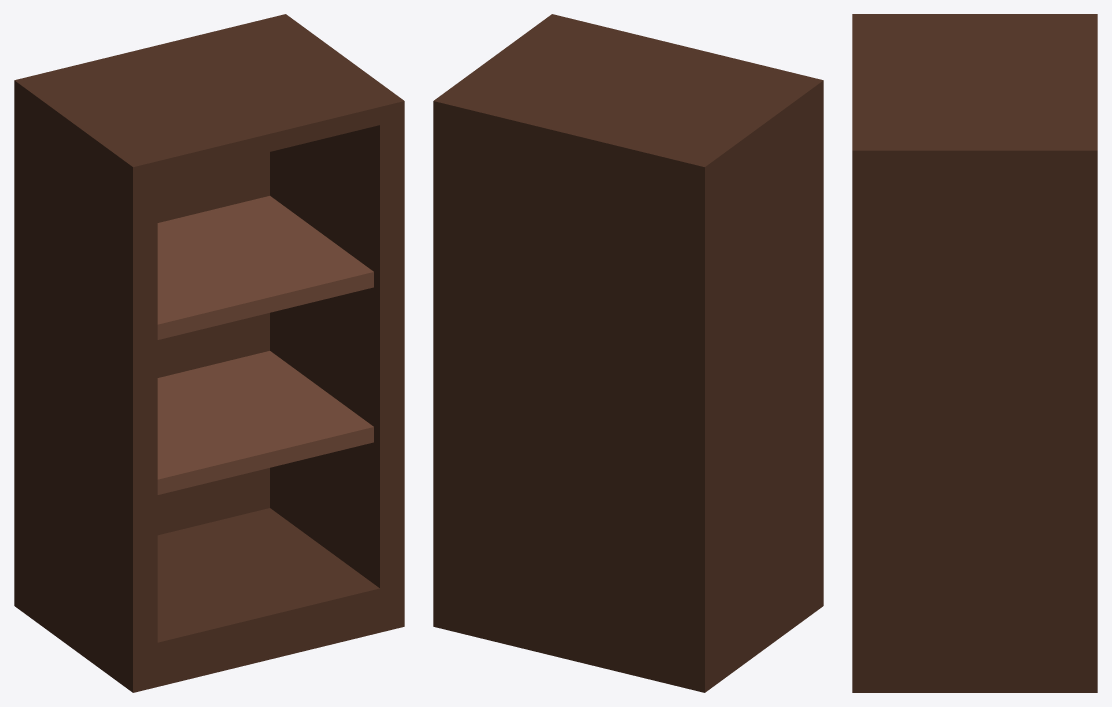
Rendered from Shelves_3B.fbx.
3 renders of one model, left to right at view 1: azimuth 30°, elevation 25°; view 2: azimuth 150°, elevation 25°; view 3: azimuth 270°, elevation 25°, orthographic. The views are drawn at different scales.
Visible parts, largest first — view 1: polySurface1685; view 2: polySurface1685; view 3: polySurface1685.
Boxes of the visible parts, box(x1,y1,x2,y2) form: polySurface1685: box(14, 14, 404, 692); polySurface1685: box(433, 14, 823, 692); polySurface1685: box(852, 14, 1097, 692).
Bounding box in the file's own units: 1.1 × 2.03 × 0.8338.
Materials: 1 (1 with a texture image).
